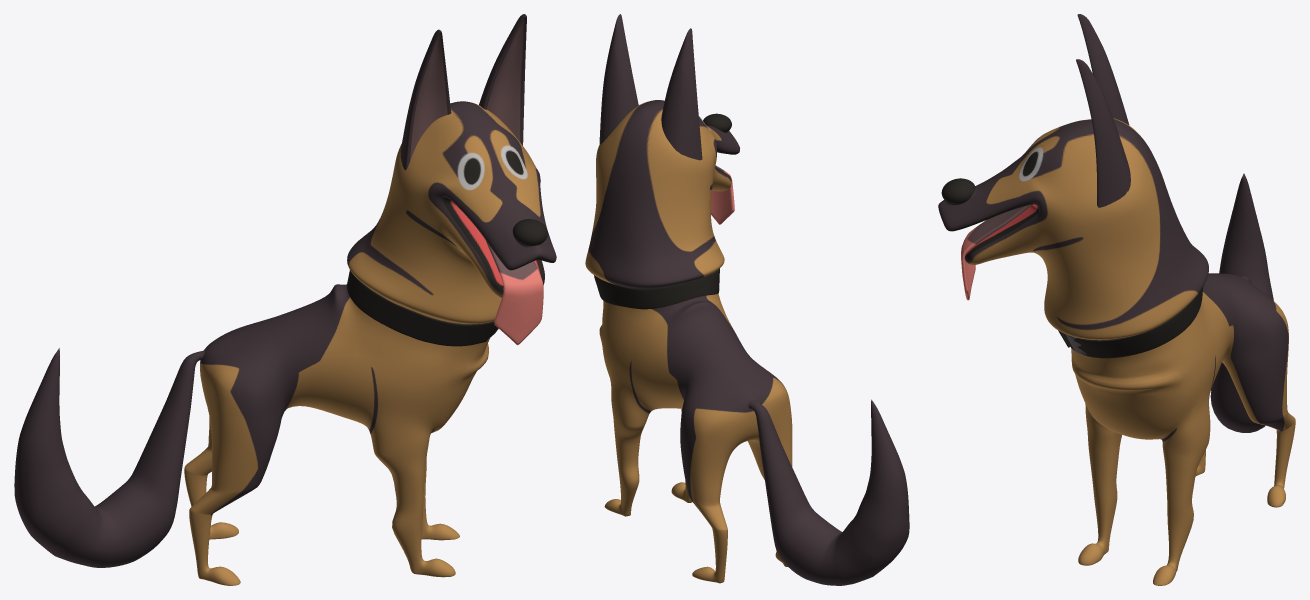
Rendered from GermanShephard.glb.
The picture shows the model from 3 angles, left to right: view 1: azimuth 30°, elevation 25°; view 2: azimuth 150°, elevation 25°; view 3: azimuth 270°, elevation 25°; orthographic projection. The views are drawn at different scales.
Parts seen in each view (by area): view 1: german_shepherd.1; view 2: german_shepherd.1; view 3: german_shepherd.1.
Part boxes in pixels (x1,y1,x2,y2): german_shepherd.1: (14,14,556,585); german_shepherd.1: (585,14,909,585); german_shepherd.1: (938,14,1295,585).
Bounding box in the file's own units: 0.2449 × 0.2961 × 0.1764.
1 material, 1 textured.
